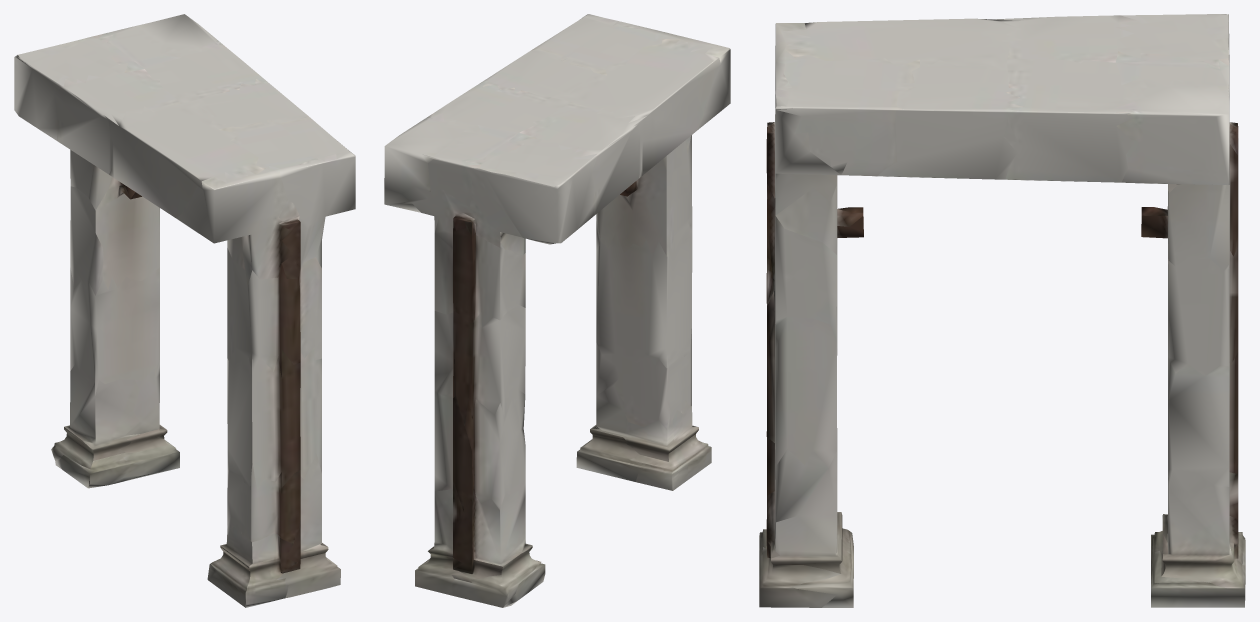
Rendered from pilar_depan_westin_lod2.glb.
3 renders of one model, left to right at view 1: azimuth 30°, elevation 25°; view 2: azimuth 150°, elevation 25°; view 3: azimuth 270°, elevation 25°, orthographic. The views are drawn at different scales.
Parts seen in each view (by area): view 1: tripo_node_308397f7-94b9-4622-a50a-1143f420c8ab; view 2: tripo_node_308397f7-94b9-4622-a50a-1143f420c8ab; view 3: tripo_node_308397f7-94b9-4622-a50a-1143f420c8ab.
Boxes of the visible parts, x1,y1,x2,y2 form: tripo_node_308397f7-94b9-4622-a50a-1143f420c8ab: [14, 14, 355, 607]; tripo_node_308397f7-94b9-4622-a50a-1143f420c8ab: [384, 14, 730, 607]; tripo_node_308397f7-94b9-4622-a50a-1143f420c8ab: [759, 14, 1245, 607].
Bounding box in the file's own units: 0.4243 × 1 × 0.8546.
1 material, 1 textured.
